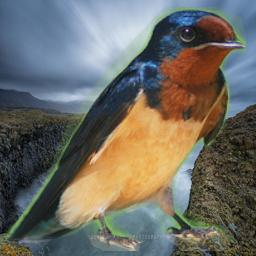Swallow: (2, 7, 246, 251)
